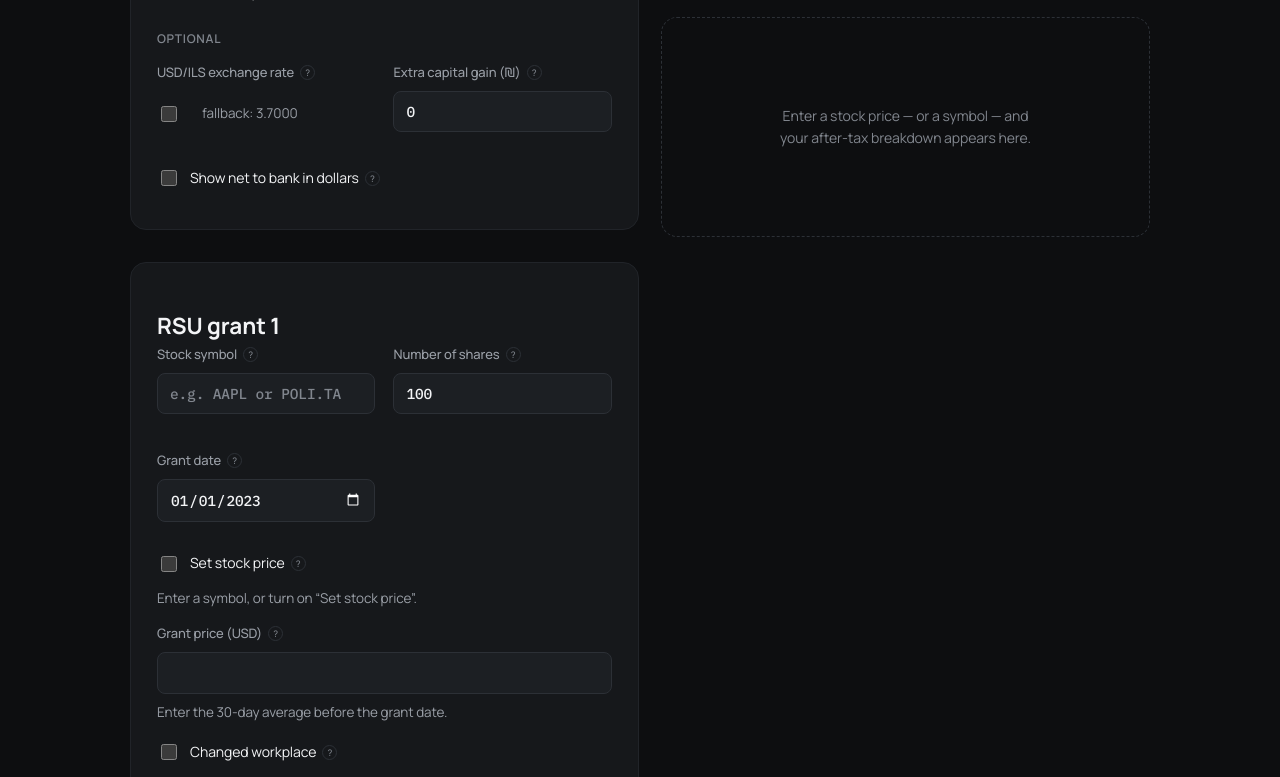
Test: RSU: grant price is never copied from the stock price › re-fetches the grant-date price for a new grant date and never shows the old one meanwhile
(page scrolled)
Type "WIX" into the field labelled "Stock symbol". click: (266, 394)
box: [157,373,376,414]
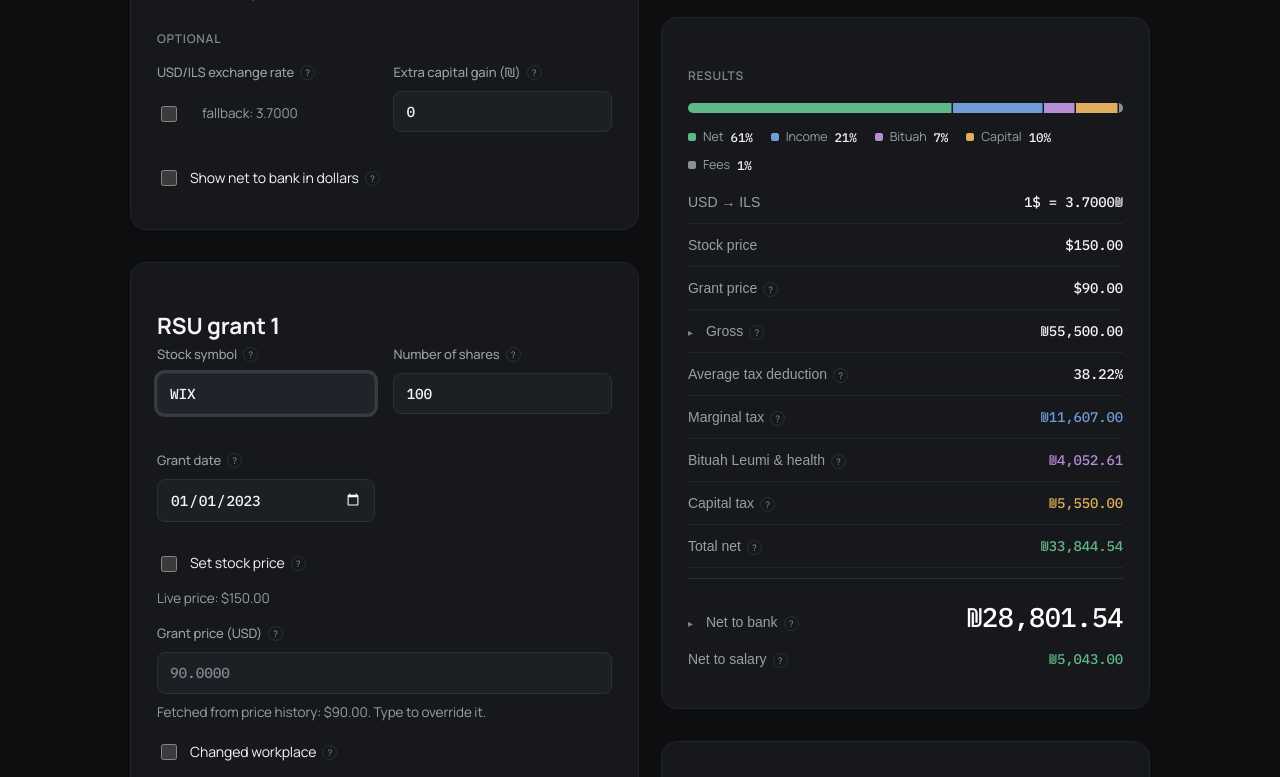
Check: the text "Grant price" shows "$90.00", box [1073,279,1123,297]
Type "2024-01-15" into the date field labelled "Grant date". click: (266, 501)
box: [157,479,376,522]
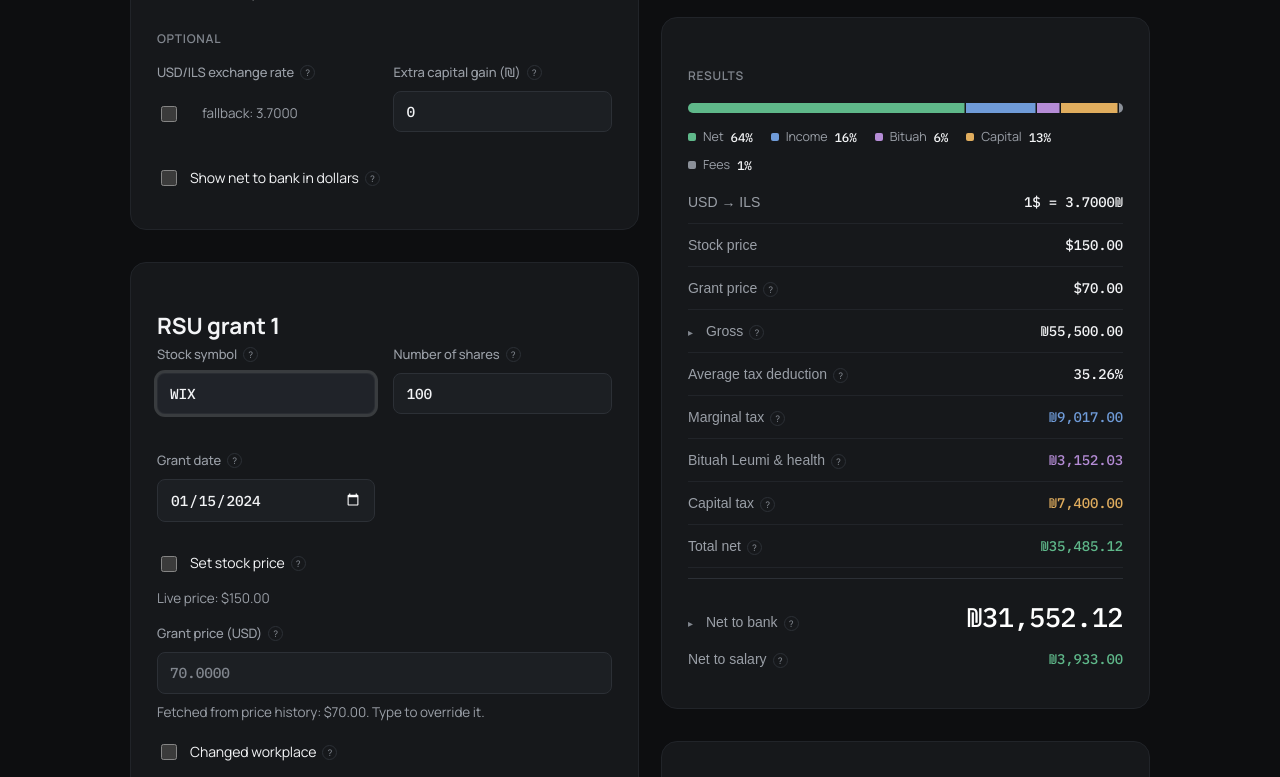
Check: the text "$90.00" is gone
Check: the text "Grant price" shows "$70.00", box [1073,279,1123,297]
